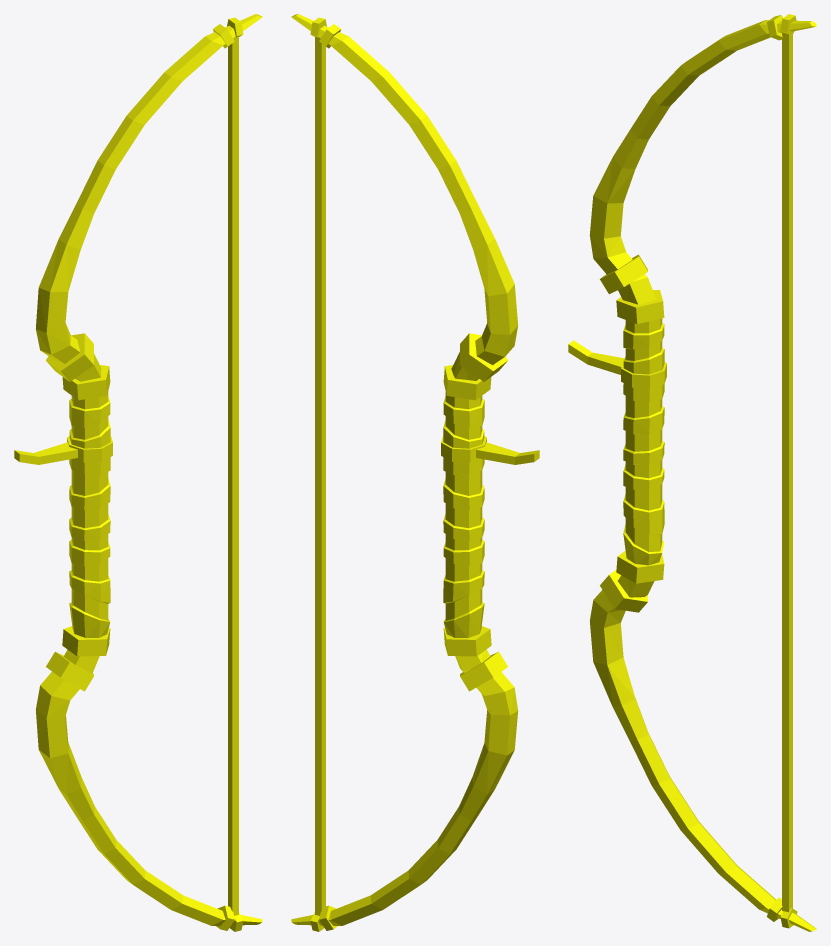
File: _bow_16.glb
3 renders of one model, left to right at view 1: azimuth 30°, elevation 25°; view 2: azimuth 150°, elevation 25°; view 3: azimuth 330°, elevation 25°, orthographic.
Visible parts, largest first — view 1: bow_16; view 2: bow_16; view 3: bow_16.
Boxes of the visible parts, bbox=[...] form: bow_16: bbox=[14, 14, 262, 931]; bow_16: bbox=[291, 14, 539, 931]; bow_16: bbox=[568, 14, 816, 931].
Bounding box in the file's own units: 0.2636 × 0.9323 × 0.0447.
1 material, 1 textured.
